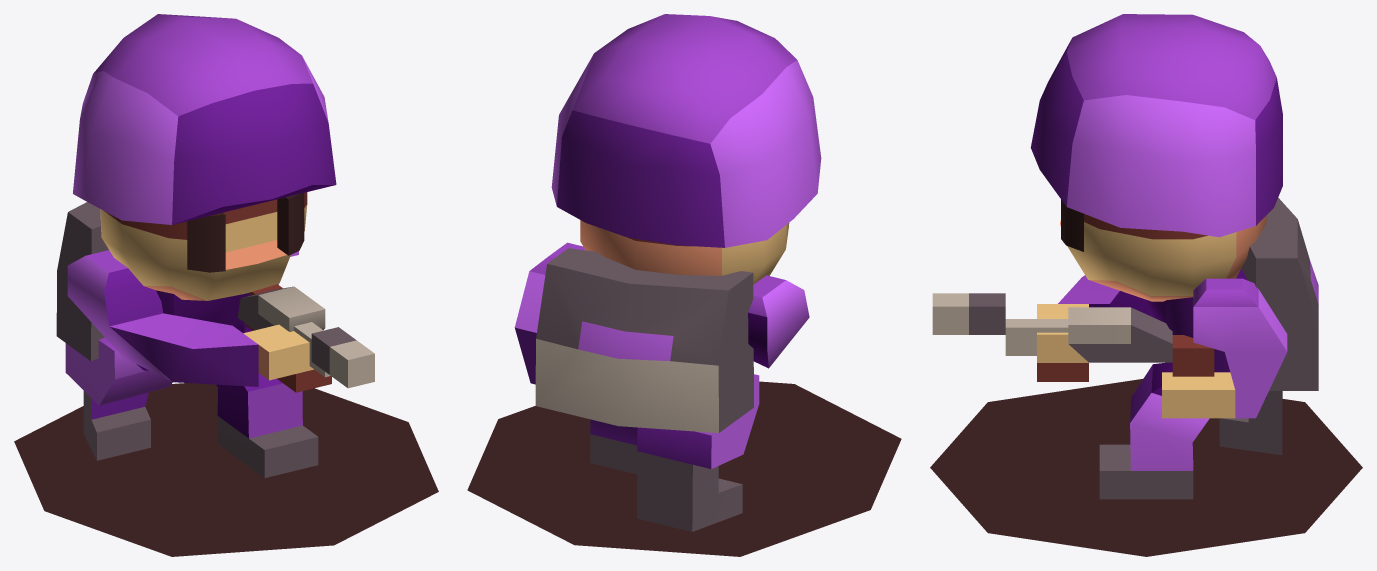
The model's file is InfantryMesh.PurpleLightning.glb.
3 views of the same model, side by side, from view 1: azimuth 30°, elevation 25°; view 2: azimuth 150°, elevation 25°; view 3: azimuth 270°, elevation 25° (orthographic). The views are drawn at different scales.
Visible parts, largest first — view 1: InfantryMesh.PurpleLightning; view 2: InfantryMesh.PurpleLightning; view 3: InfantryMesh.PurpleLightning.
Boxes of the visible parts, x1,y1,x2,y2 form: InfantryMesh.PurpleLightning: (14, 14, 438, 556); InfantryMesh.PurpleLightning: (467, 14, 901, 556); InfantryMesh.PurpleLightning: (930, 14, 1362, 556).
Size of the model in its own units: 2.03 by 2.3 by 2.07.
Materials: 1 (1 with a texture image).
